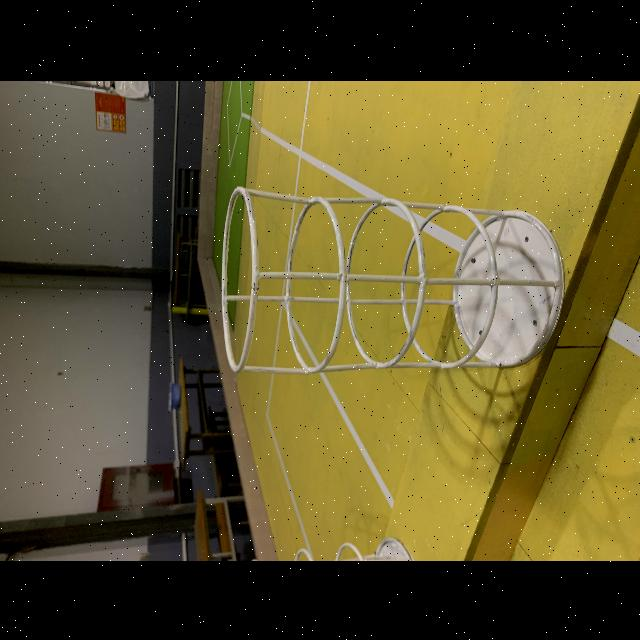S: (219, 184, 566, 374), (248, 536, 416, 560)
